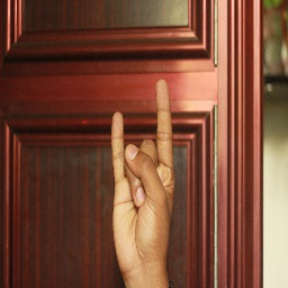V: (105, 74, 185, 263)
